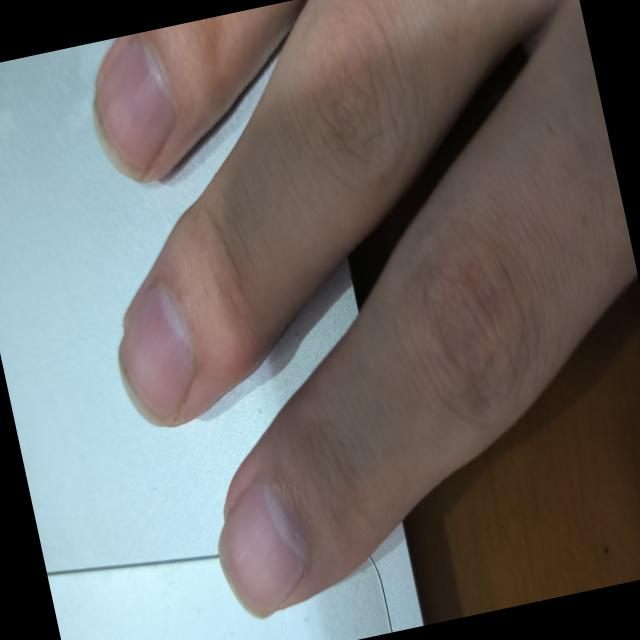Nail: (91, 36, 175, 182), (219, 478, 305, 617), (118, 281, 194, 426)
